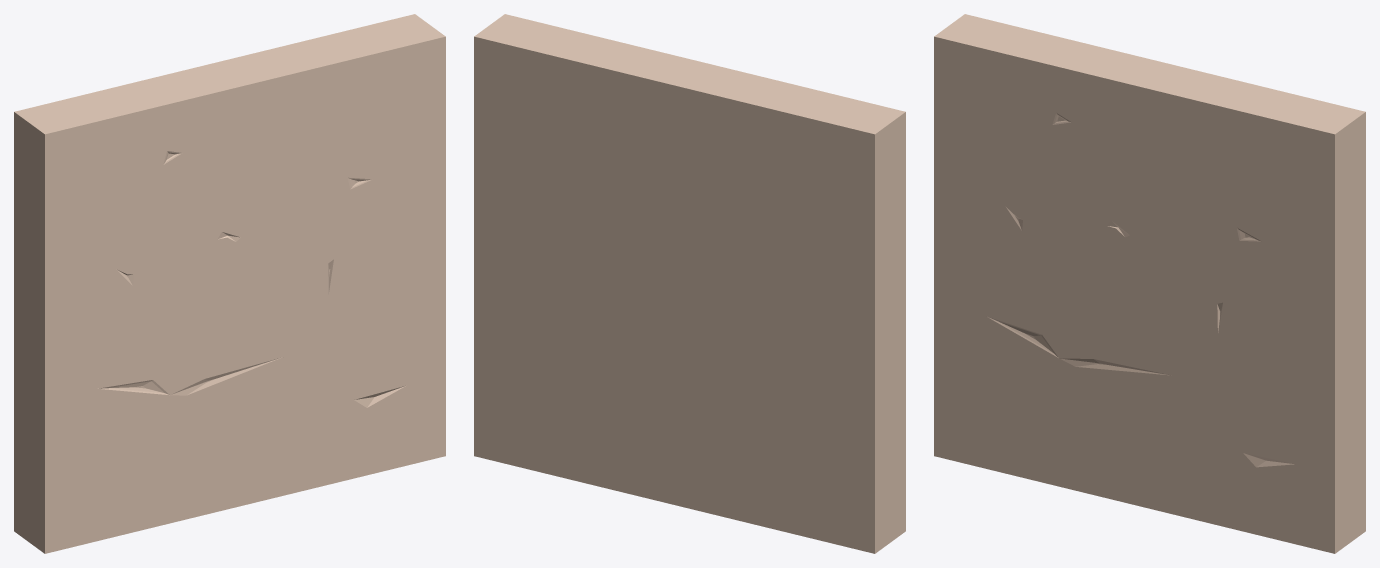
The model's file is greek_wall_2.fbx.
The picture shows the model from 3 angles, left to right: view 1: azimuth 30°, elevation 25°; view 2: azimuth 150°, elevation 25°; view 3: azimuth 330°, elevation 25°; orthographic projection.
Parts seen in each view (by area): view 1: Cube.020; view 2: Cube.020; view 3: Cube.020.
Boxes of the visible parts, x1,y1,x2,y2 form: Cube.020: [14, 14, 445, 553]; Cube.020: [474, 14, 905, 553]; Cube.020: [934, 14, 1365, 553].
Size of the model in its own units: 300 by 300 by 40.
